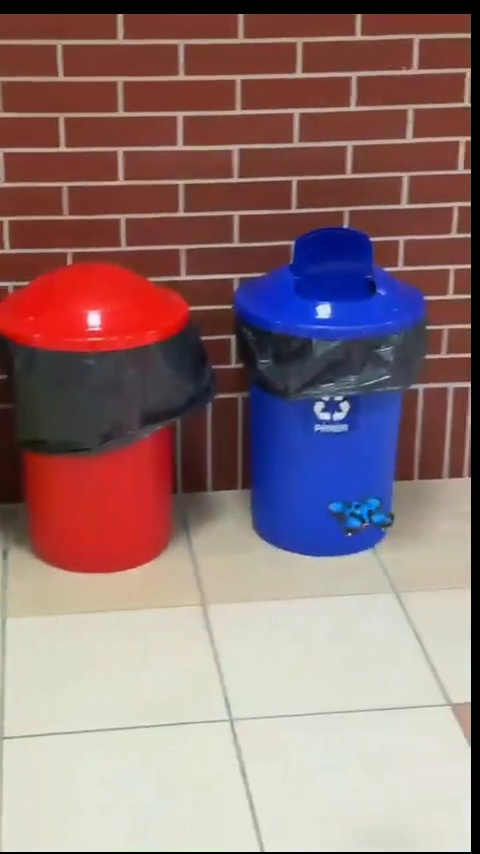drone: (329, 497, 398, 540)
